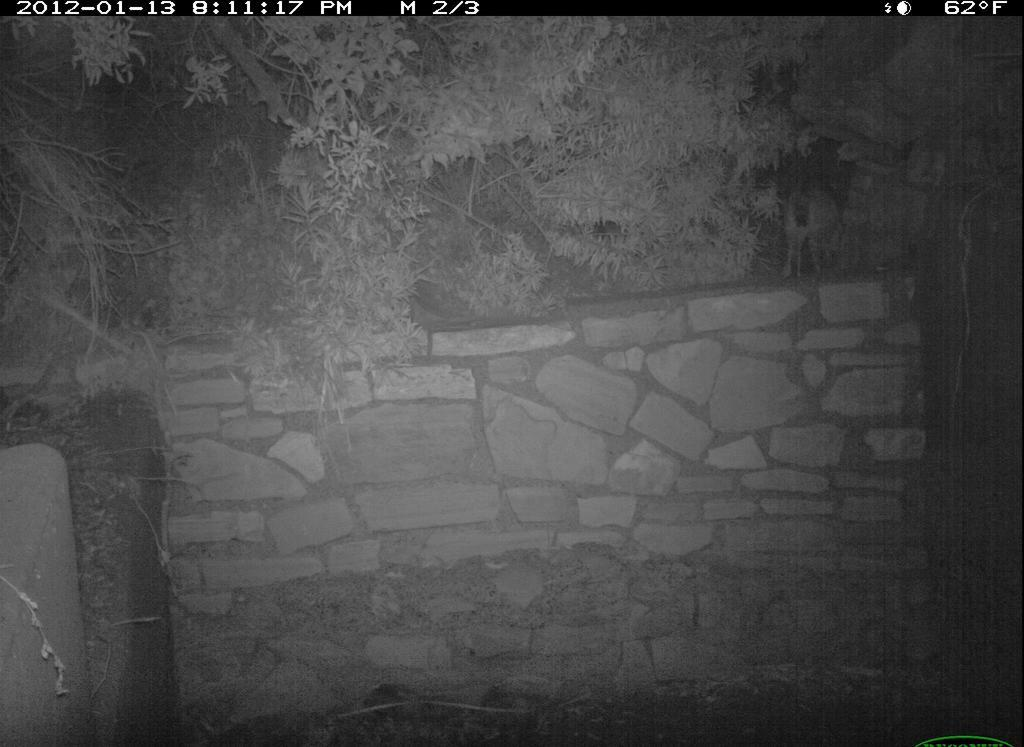bobcat: (754, 153, 856, 282)
